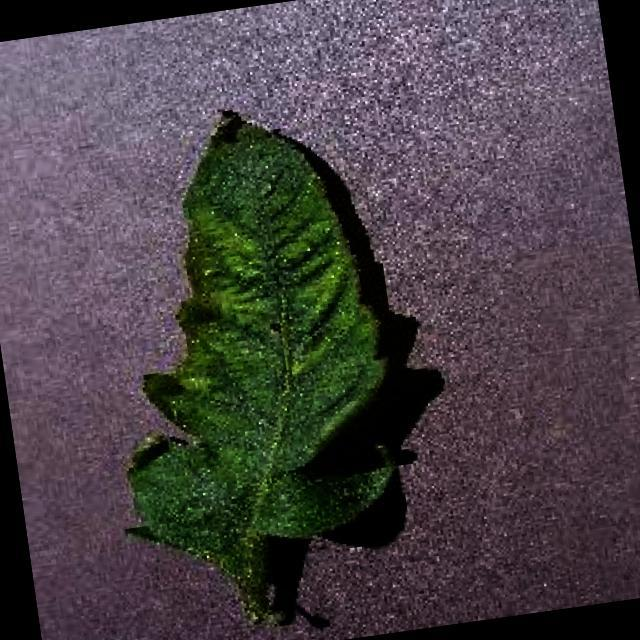Tomato mosaic virus leaf: (69, 88, 414, 572)
